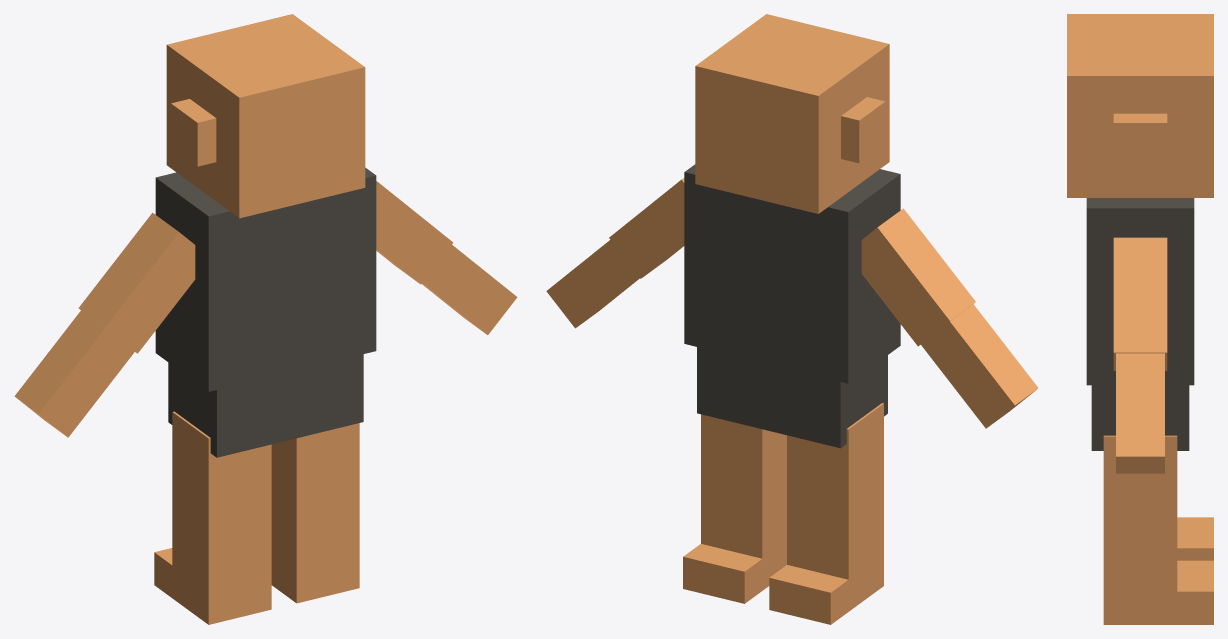
File: female_base.gltf
The picture shows the model from 3 angles, left to right: view 1: azimuth 30°, elevation 25°; view 2: azimuth 150°, elevation 25°; view 3: azimuth 270°, elevation 25°; orthographic projection. The views are drawn at different scales.
Visible parts, largest first — view 1: torso_cube, head_cube, leg_r_cube, hips_cube, leg_l_cube, upperarm_r_cube, lowerarm_r_cube, upperarm_l_cube, lowerarm_l_cube, foot_r_cube, foot_l_cube, ear_r; view 2: torso_cube, head_cube, leg_r_cube, hips_cube, leg_l_cube, upperarm_r_cube, lowerarm_r_cube, foot_r_cube, foot_l_cube, upperarm_l_cube, lowerarm_l_cube, ear_r; view 3: head_cube, torso_cube, leg_l_cube, upperarm_l_cube, lowerarm_l_cube, foot_l_cube, ear_l, hips_cube, foot_r_cube.
Boxes of the visible parts, x1,y1,x2,y2 form: torso_cube: [155, 167, 376, 391]; head_cube: [166, 14, 365, 218]; leg_r_cube: [172, 411, 271, 591]; hips_cube: [168, 354, 363, 457]; leg_l_cube: [271, 423, 359, 570]; upperarm_r_cube: [78, 212, 195, 353]; lowerarm_r_cube: [14, 310, 134, 437]; upperarm_l_cube: [376, 181, 453, 284]; lowerarm_l_cube: [422, 245, 517, 334]; foot_r_cube: [154, 548, 271, 624]; foot_l_cube: [271, 552, 359, 603]; ear_r: [171, 99, 216, 166]; torso_cube: [684, 164, 900, 383]; head_cube: [695, 14, 889, 213]; leg_r_cube: [787, 403, 883, 579]; hips_cube: [697, 347, 887, 448]; leg_l_cube: [701, 414, 786, 558]; upperarm_r_cube: [861, 208, 975, 346]; lowerarm_r_cube: [921, 304, 1038, 428]; foot_r_cube: [769, 554, 883, 624]; foot_l_cube: [683, 541, 786, 603]; upperarm_l_cube: [609, 178, 684, 278]; lowerarm_l_cube: [546, 240, 639, 328]; ear_r: [841, 97, 885, 163]; head_cube: [1067, 14, 1213, 197]; torso_cube: [1086, 198, 1194, 385]; leg_l_cube: [1103, 435, 1177, 591]; upperarm_l_cube: [1113, 237, 1167, 370]; lowerarm_l_cube: [1116, 353, 1164, 473]; foot_l_cube: [1103, 560, 1213, 624]; ear_l: [1113, 113, 1167, 167]; hips_cube: [1091, 385, 1189, 450]; foot_r_cube: [1177, 517, 1213, 560].
Bounding box in the file's own units: 1.43 × 1.53 × 0.375.
Materials: 2 (2 with a texture image).
